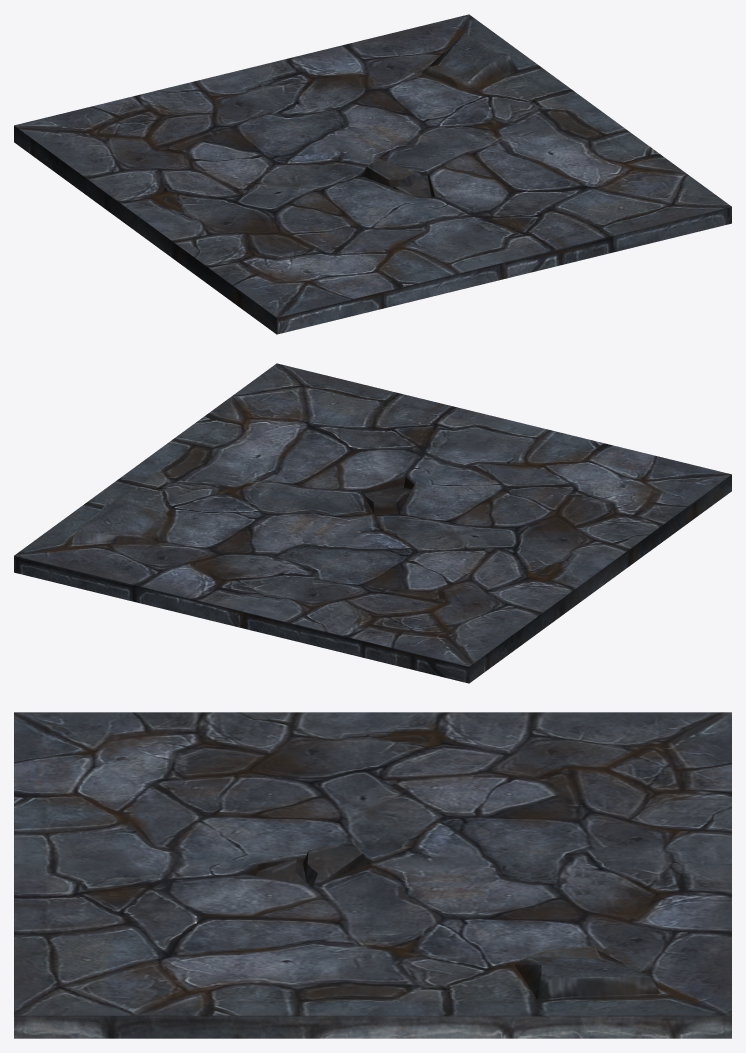
File: B_shitoudimian04.fbx
3 renders of one model, top to bottom at view 1: azimuth 30°, elevation 25°; view 2: azimuth 150°, elevation 25°; view 3: azimuth 270°, elevation 25°, orthographic. The views are drawn at different scales.
Visible parts, largest first — view 1: B_shitoudimian04; view 2: B_shitoudimian04; view 3: B_shitoudimian04.
Boxes of the visible parts, x1,y1,x2,y2 form: B_shitoudimian04: (14,14,731,334); B_shitoudimian04: (14,363,731,683); B_shitoudimian04: (14,712,731,1038).
Size of the model in its own units: 443 by 29.86 by 443.
